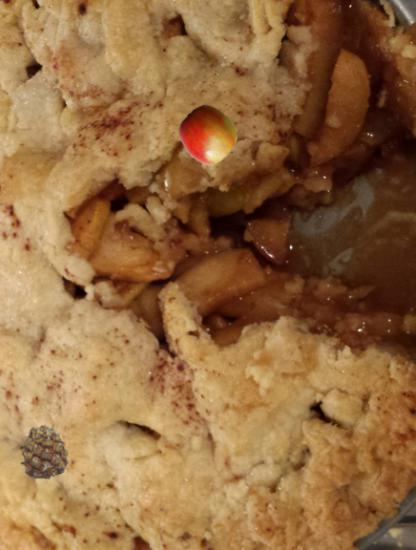Apple: (179, 106, 240, 167)
Pineapple: (16, 424, 73, 481)
